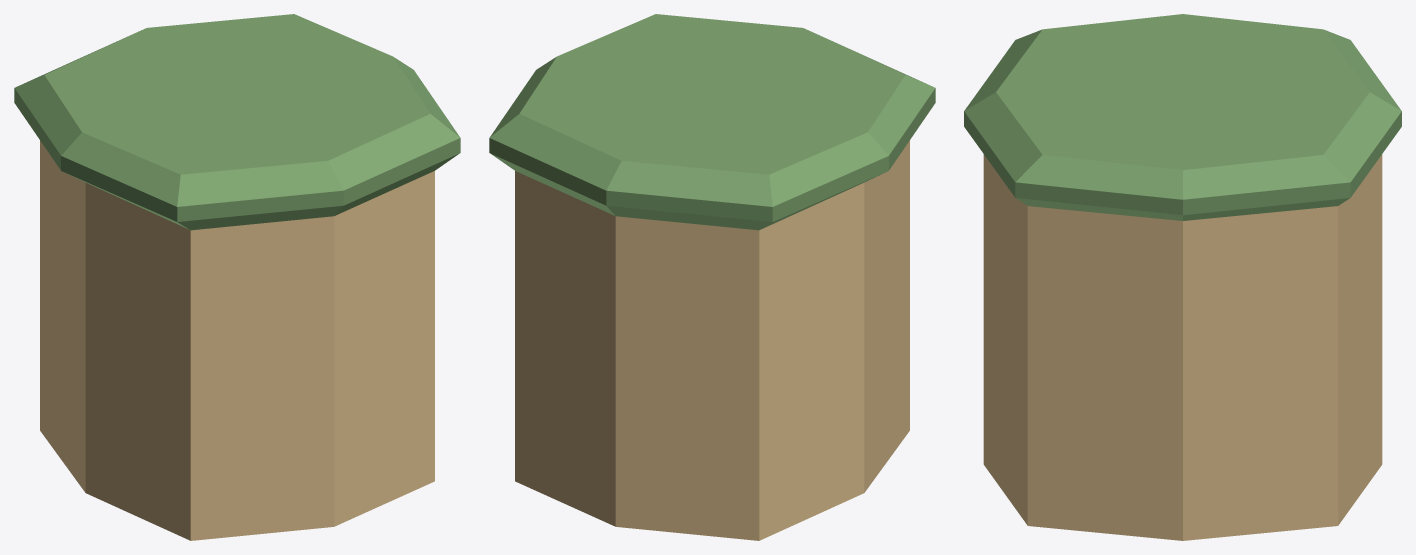
File: Pedestal 1.fbx
3 views of the same model, side by side, from view 1: azimuth 30°, elevation 25°; view 2: azimuth 150°, elevation 25°; view 3: azimuth 270°, elevation 25° (orthographic). The views are drawn at different scales.
Parts seen in each view (by area): view 1: Cube; view 2: Cube; view 3: Cube.
Boxes of the visible parts, bbox=[...] form: Cube: bbox=[14, 14, 460, 540]; Cube: bbox=[489, 14, 935, 540]; Cube: bbox=[964, 14, 1401, 540].
Bounding box in the file's own units: 194 × 190 × 202.
